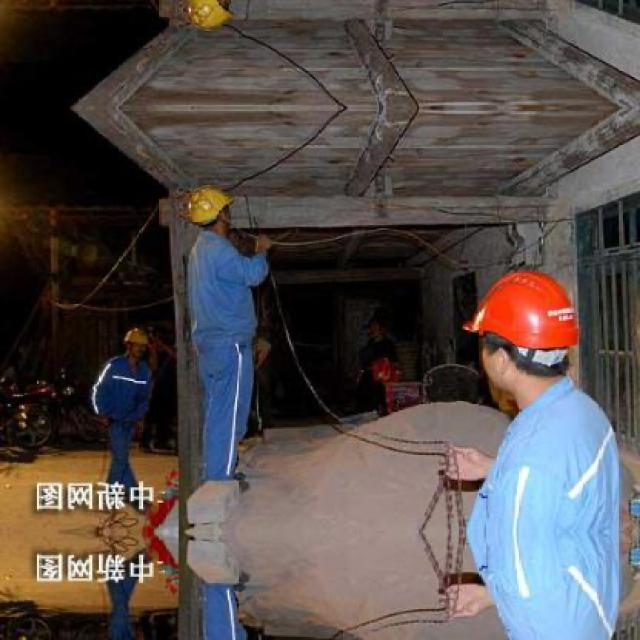con casco: (335, 232, 618, 476), (181, 159, 276, 248), (88, 305, 190, 386)
